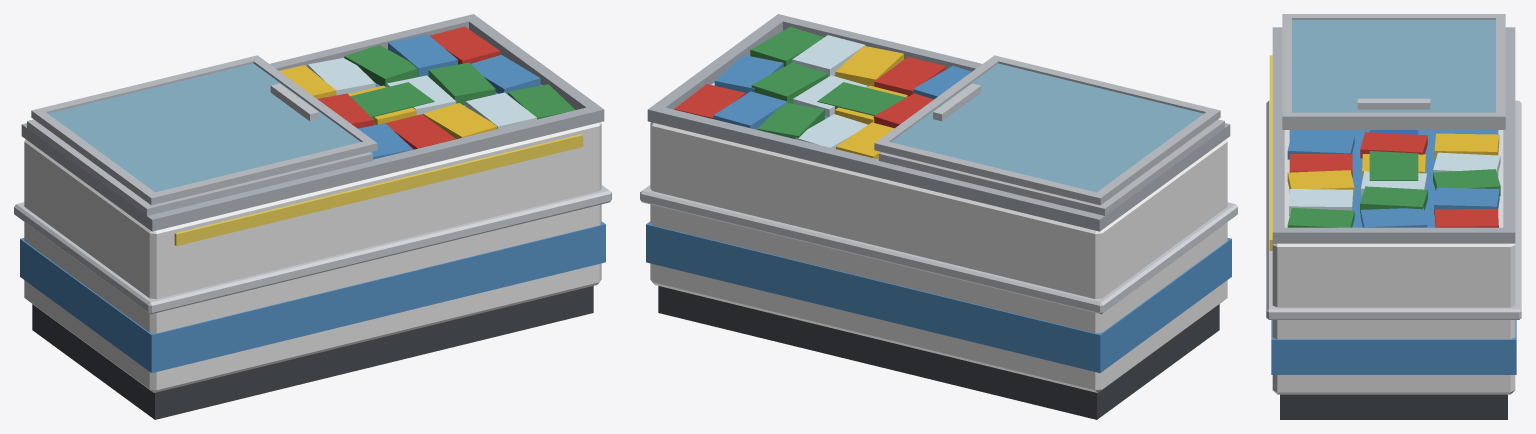
Rendered from Freezer_Island_Lid_2m.glb.
3 renders of one model, left to right at view 1: azimuth 30°, elevation 25°; view 2: azimuth 150°, elevation 25°; view 3: azimuth 270°, elevation 25°, orthographic. The views are drawn at different scales.
Visible parts, largest first — view 1: Freezer_Island_Lid_2m, Freezer_Island_Lid_2m_Lid_Slide_B, Freezer_Island_Lid_2m_Lid_Slide_A; view 2: Freezer_Island_Lid_2m, Freezer_Island_Lid_2m_Lid_Slide_B, Freezer_Island_Lid_2m_Lid_Slide_A; view 3: Freezer_Island_Lid_2m, Freezer_Island_Lid_2m_Lid_Slide_B, Freezer_Island_Lid_2m_Lid_Slide_A.
Part boxes in pixels (x1,y1,x2,y2): Freezer_Island_Lid_2m: (14,14,611,419); Freezer_Island_Lid_2m_Lid_Slide_B: (31,55,377,205); Freezer_Island_Lid_2m_Lid_Slide_A: (27,119,372,215); Freezer_Island_Lid_2m: (640,14,1237,419); Freezer_Island_Lid_2m_Lid_Slide_B: (874,55,1220,205); Freezer_Island_Lid_2m_Lid_Slide_A: (879,119,1224,215); Freezer_Island_Lid_2m: (1266,27,1521,419); Freezer_Island_Lid_2m_Lid_Slide_B: (1282,14,1505,123); Freezer_Island_Lid_2m_Lid_Slide_A: (1282,123,1505,129).
Bounding box in the file's own units: 2.05 × 0.96 × 1.05.
1 material, 1 textured.
